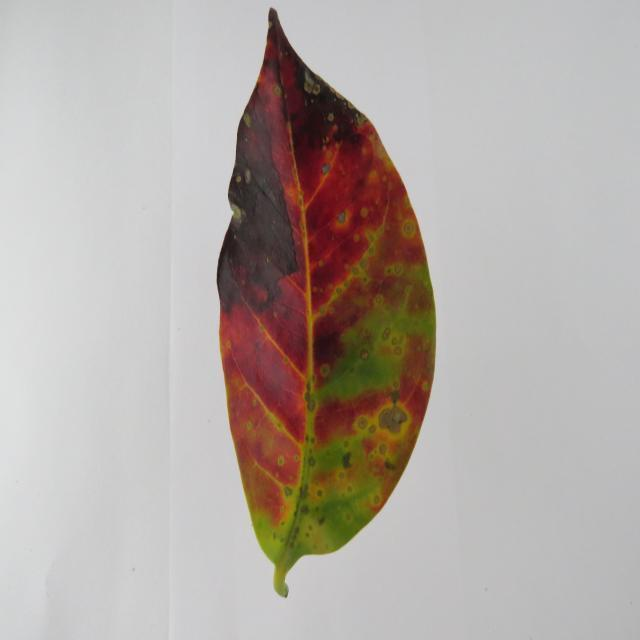DeficienciaNutricional-Fosforo: (218, 8, 435, 597)
